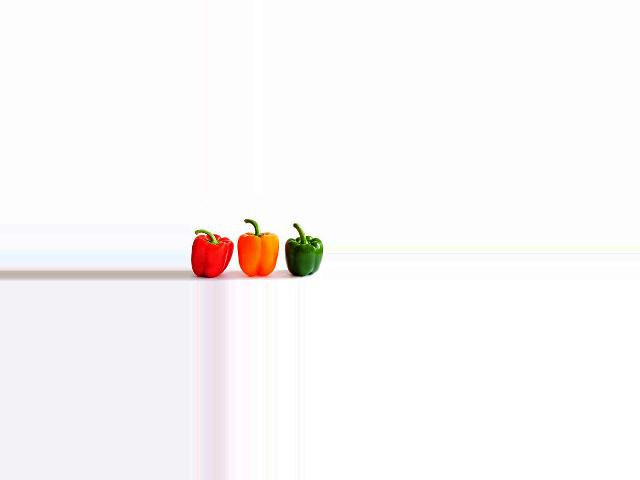bell_pepper: (188, 219, 234, 276)
